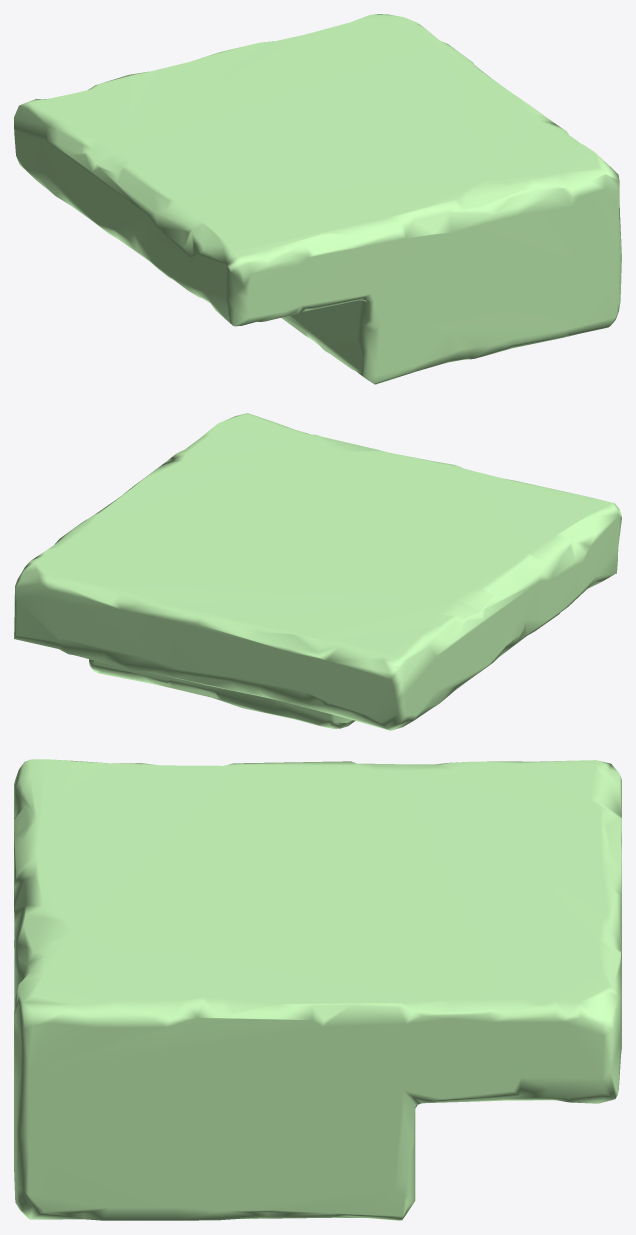
The model's file is stone_tiles_l_ver1_LOD2.fbx.
3 renders of one model, top to bottom at view 1: azimuth 30°, elevation 25°; view 2: azimuth 150°, elevation 25°; view 3: azimuth 270°, elevation 25°, orthographic. The views are drawn at different scales.
Parts seen in each view (by area): view 1: Cube_007lod2; view 2: Cube_007lod2; view 3: Cube_007lod2.
Part boxes in pixels (x1,y1,x2,y2): Cube_007lod2: [14, 14, 621, 384]; Cube_007lod2: [14, 413, 621, 730]; Cube_007lod2: [14, 759, 621, 1220].
Bounding box in the file's own units: 70.97 × 27.9 × 70.95.
